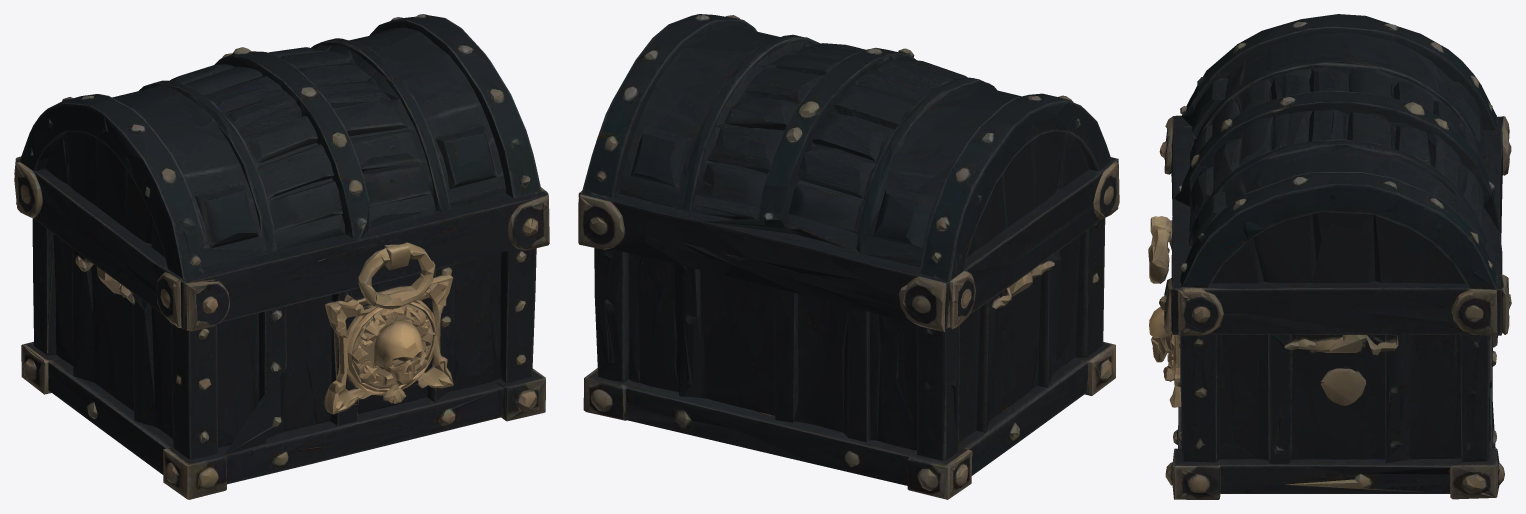
File: chest.glb
3 renders of one model, left to right at view 1: azimuth 30°, elevation 25°; view 2: azimuth 150°, elevation 25°; view 3: azimuth 270°, elevation 25°, orthographic. The views are drawn at different scales.
Size of the model in its own units: 1.9 by 1.57 by 1.62.
1 material, 1 textured.
